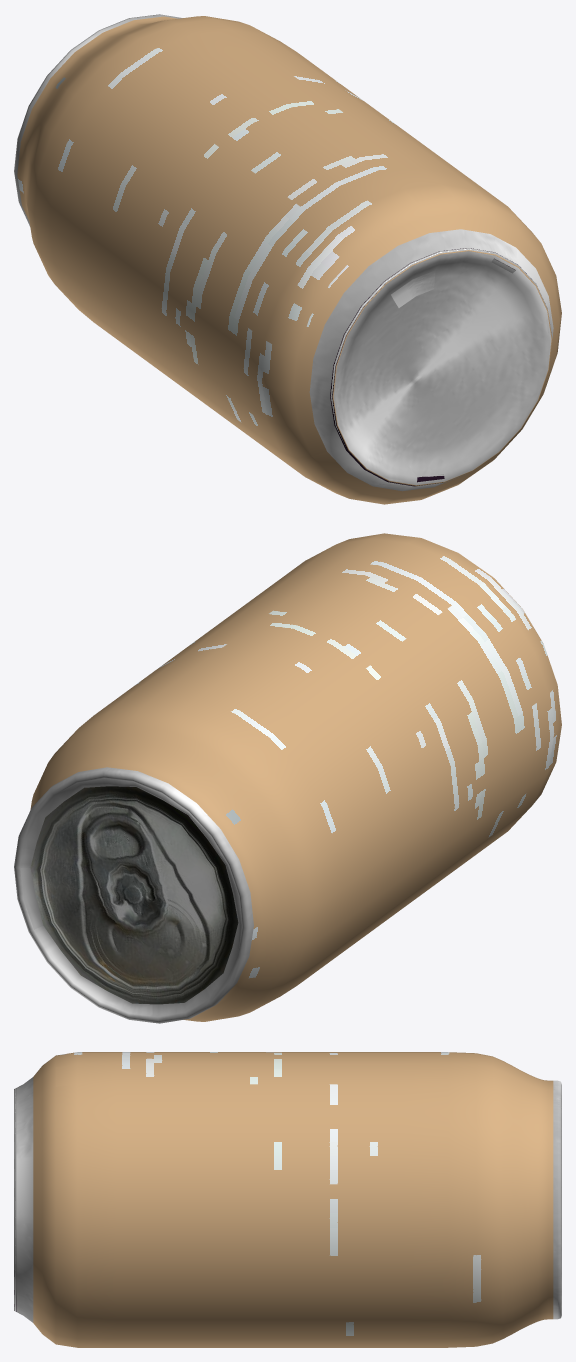
3 renders of one model, top to bottom at view 1: azimuth 30°, elevation 25°; view 2: azimuth 150°, elevation 25°; view 3: azimuth 270°, elevation 25°, orthographic. The views are drawn at different scales.
Parts seen in each view (by area): view 1: pCylinder50_blinn7_0; view 2: pCylinder50_blinn7_0; view 3: pCylinder50_blinn7_0.
Boxes of the visible parts, x1,y1,x2,y2 form: pCylinder50_blinn7_0: (14,14,561,504); pCylinder50_blinn7_0: (14,533,561,1023); pCylinder50_blinn7_0: (14,1052,561,1347).
Bounding box in the file's own units: 0.0662 × 0.122 × 0.0662.
